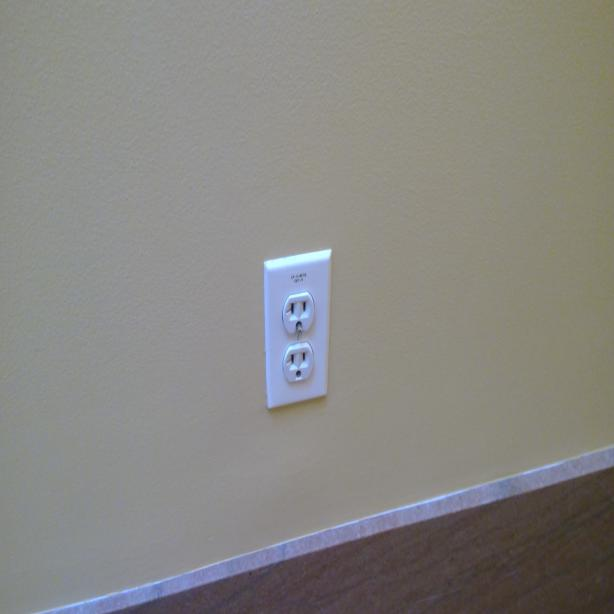typeb: (282, 291, 315, 337), (282, 345, 316, 386)
